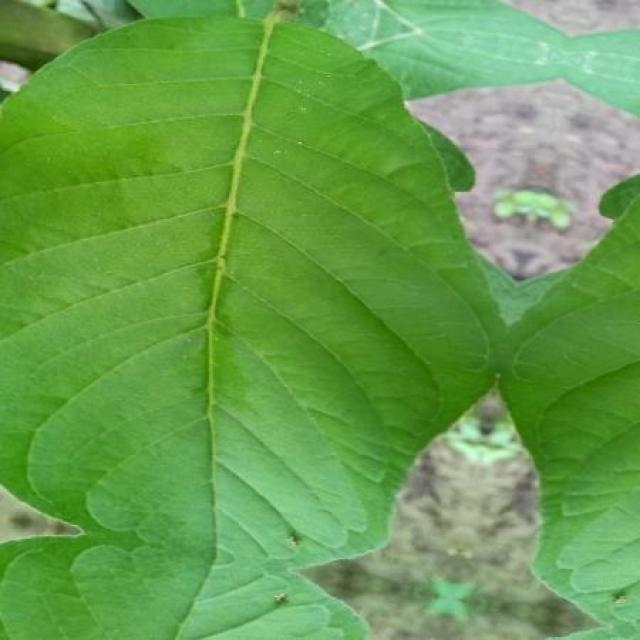Disease Free: (0, 19, 494, 598), (502, 198, 640, 622), (322, 0, 640, 114), (0, 535, 176, 640), (175, 562, 365, 639)
